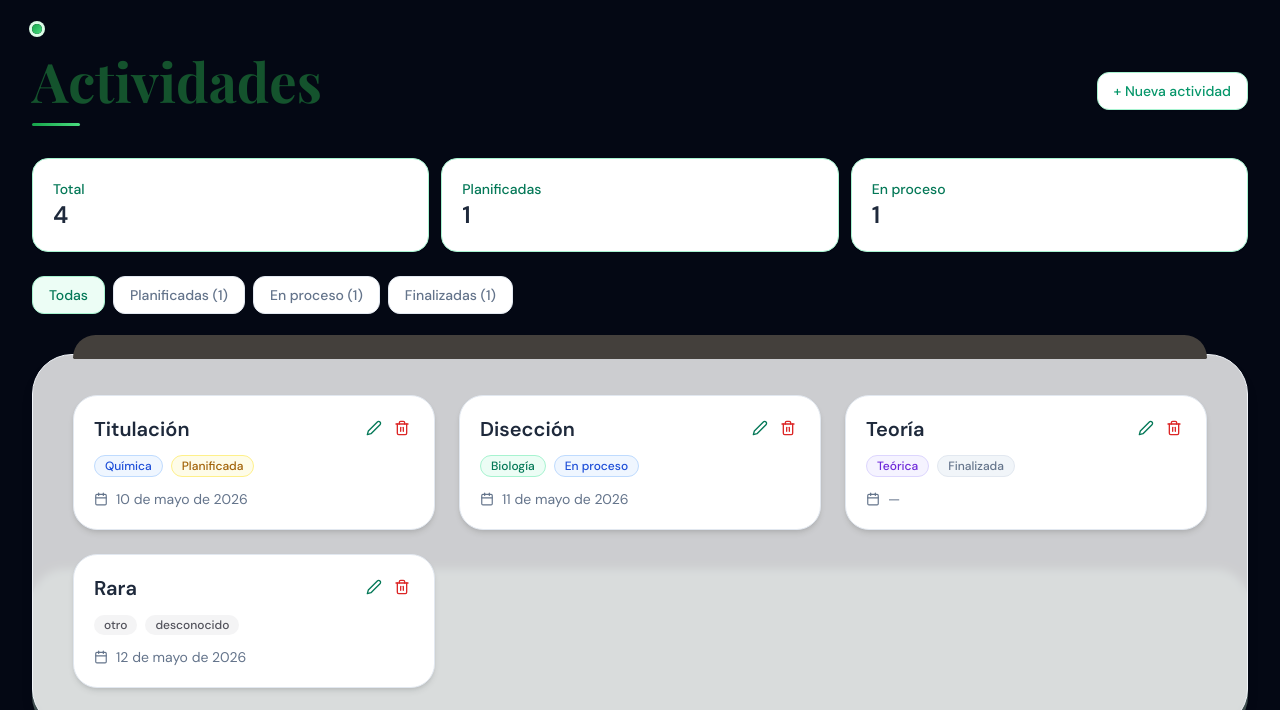
Test case: Actividades Page › muestra el error si falla el borrado
Click the button titled "Eliminar actividad" in the row of "Titulación" at (402, 428), box [390,416,414,440]
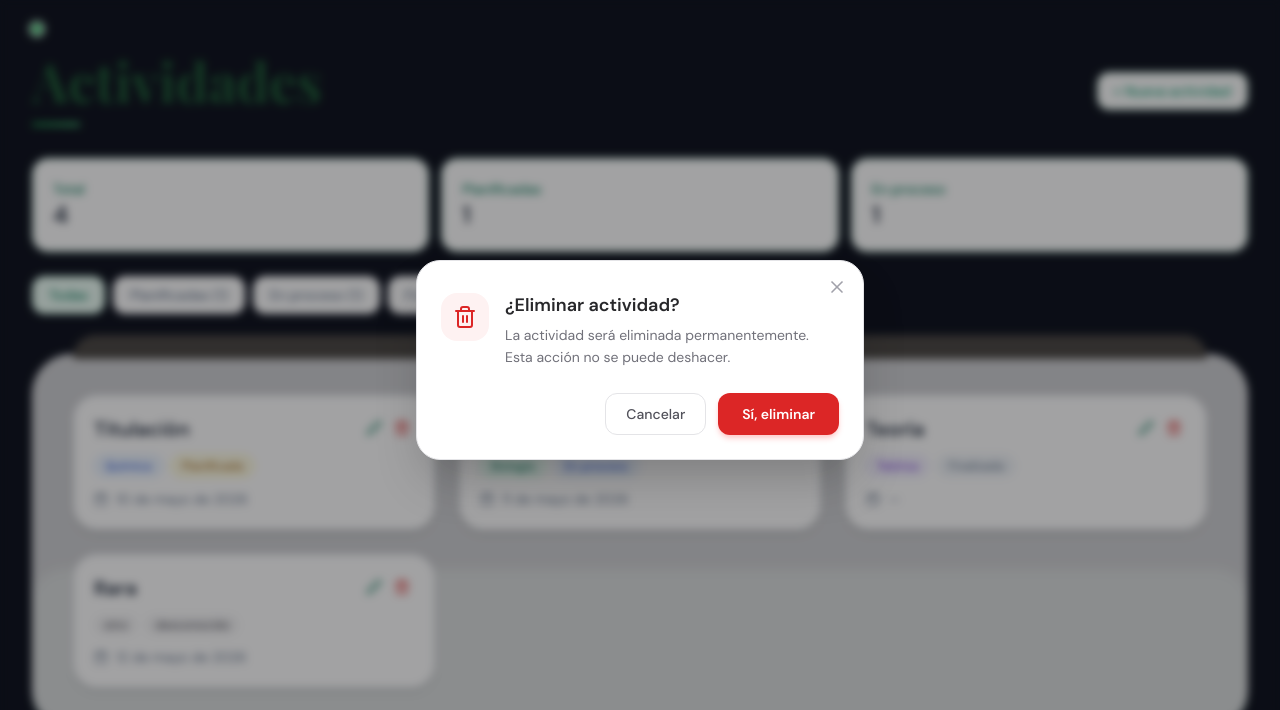
Click the button "Sí, eliminar" at (779, 414), box [718,393,839,435]
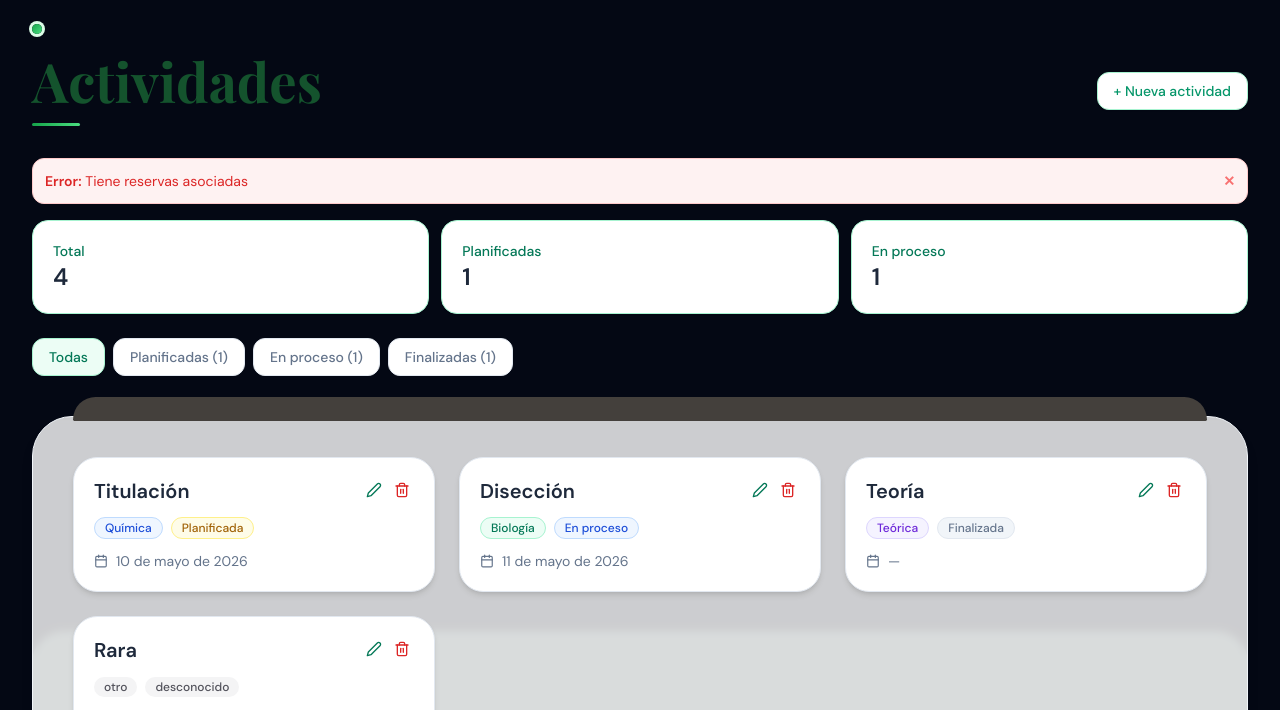
Check: the heading "Titulación" is shown, box [94,478,198,505]
Check: the text "Tiene reservas asociadas" is shown, box [85,172,248,190]
